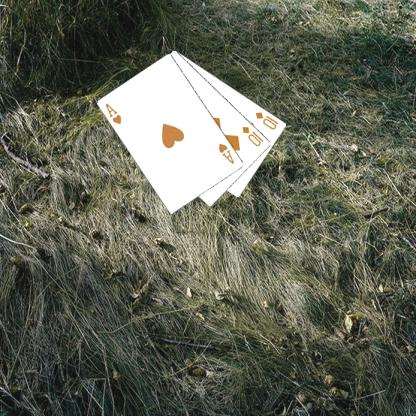10D: (240, 124, 265, 148), (253, 109, 280, 131)
AH: (102, 100, 123, 125), (216, 140, 236, 166)
